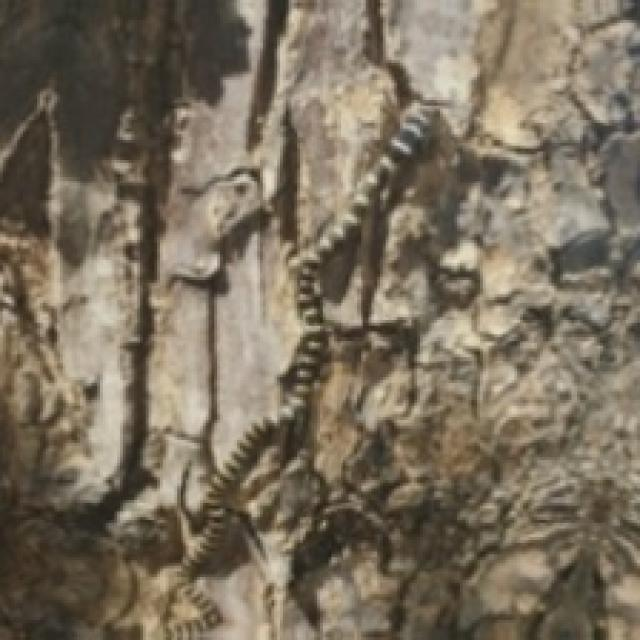paradise tree snake: (163, 66, 480, 637)
